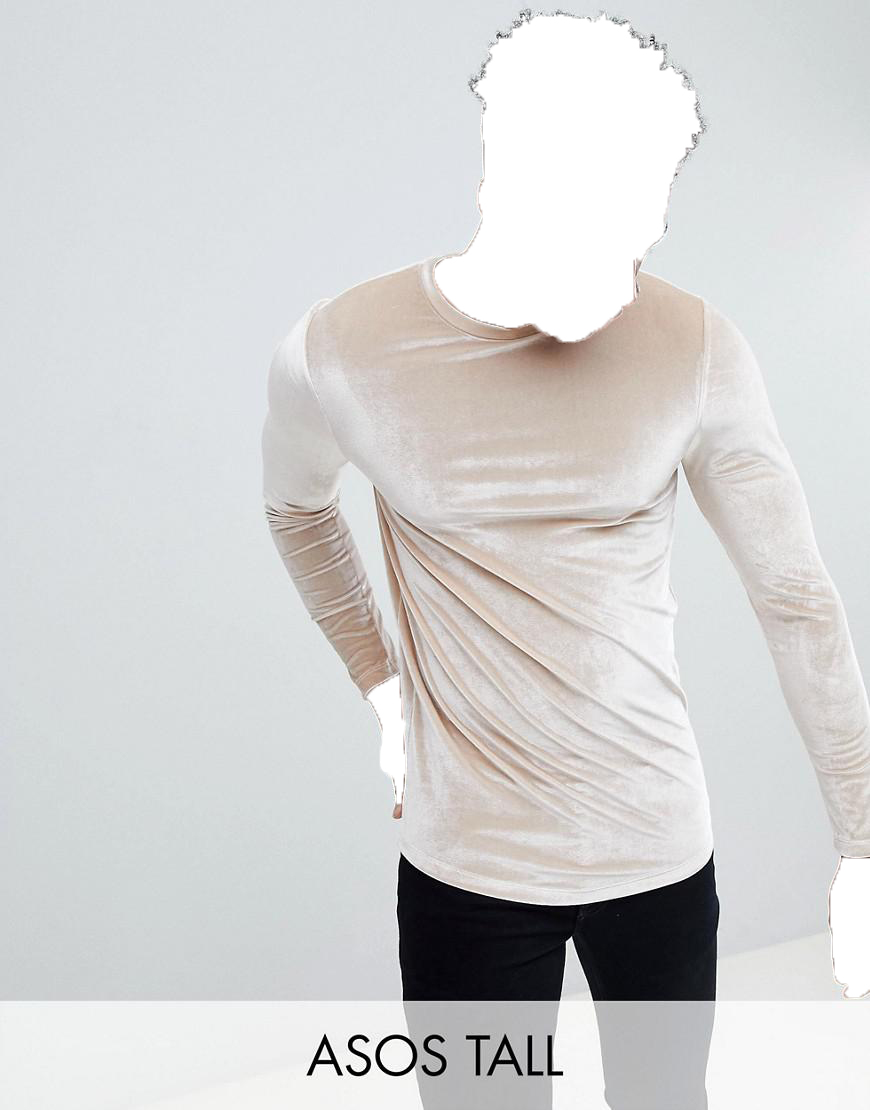teeshirt: (247, 256, 870, 906)
